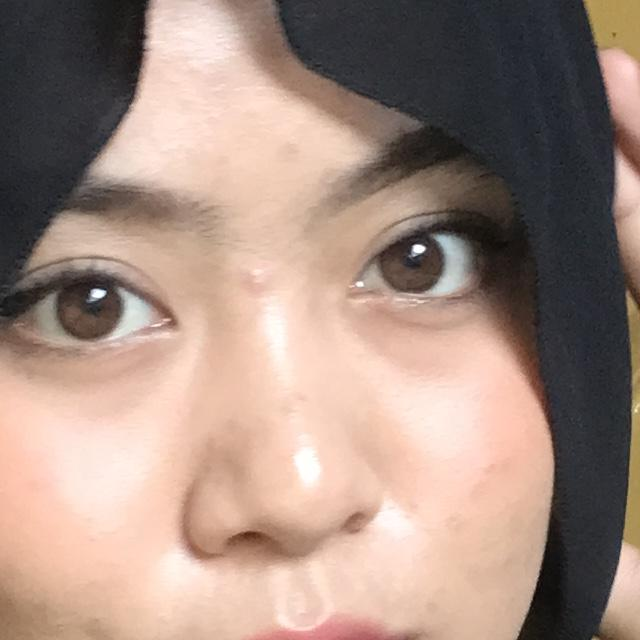mendengar: (430, 0, 640, 640)
